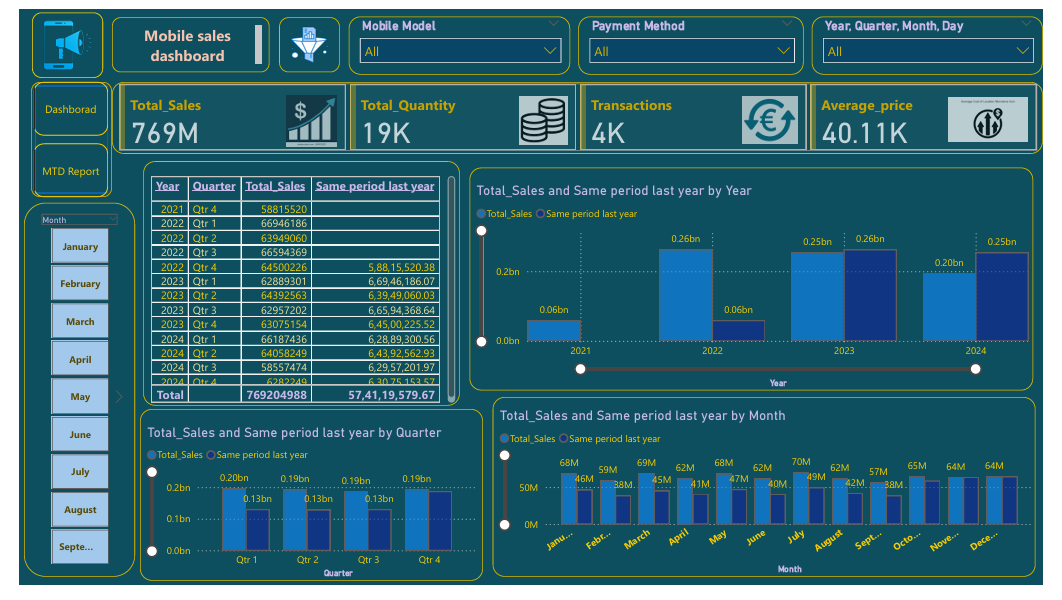

What the dashboard file says about the page in this screenshot:
{"tool":"powerbi","page":{"name":"Same period last year","canvas":[1280,720],"ordinal":2},"visuals":[{"type":"shape","box":[15.1,90.7,100.8,144.5],"z":1000},{"type":"cardVisual","fields":{"Data":["Sales_Data.Total_Sales","Sales_Data.Total_Quantity","Sales_Data.Transactions","Sales_Data.Average_price"]},"box":[116.2,90.7,1163.6,90.7],"z":2000},{"type":"slicer","fields":{"Values":["Sales_Data.Mobile Model"]},"box":[412.4,8.5,276.4,73.7],"z":3000},{"type":"slicer","fields":{"Values":["Sales_Data.Payment Method"]},"box":[698.7,8.5,282,73.7],"z":4000},{"type":"slicer","fields":{"Values":["Query1.Date.Variation.Date Hierarchy.Year","Query1.Date.Variation.Date Hierarchy.Quarter","Query1.Date.Variation.Date Hierarchy.Month","Query1.Date.Variation.Date Hierarchy.Day"]},"box":[990.7,8.5,289.1,73.7],"z":5000},{"type":"image","box":[324.6,9.9,76.5,69.4],"z":6000},{"type":"textbox","box":[116.2,9.9,197,69.4],"z":7000},{"type":"slicer","fields":{"Values":["Query1.Date.Variation.Date Hierarchy.Month"]},"box":[5.7,242.4,138.9,467.7],"z":9000},{"type":"tableEx","fields":{"Values":["Query1.Date.Variation.Date Hierarchy.Year","Query1.Date.Variation.Date Hierarchy.Quarter","Sales_Data.Total_Sales","Sales_Data.Same period last year"]},"box":[154.5,189.8,396.4,305.7],"z":9001},{"type":"clusteredColumnChart","fields":{"Category":["Query1.Date.Variation.Date Hierarchy.Year","Query1.Date.Variation.Date Hierarchy.Quarter"],"Y":["Sales_Data.Total_Sales","Sales_Data.Same period last year"]},"box":[562.7,198.2,705.5,278.8],"z":9002},{"type":"clusteredColumnChart","fields":{"Y":["Sales_Data.Total_Sales","Sales_Data.Same period last year"],"Category":["Query1.Date.Variation.Date Hierarchy.Month"]},"box":[592.4,484.7,678.9,225.4],"z":9003},{"type":"clusteredColumnChart","fields":{"Category":["Query1.Date.Variation.Date Hierarchy.Quarter"],"Y":["Sales_Data.Total_Sales","Sales_Data.Same period last year"]},"box":[151,500,429.4,215.4],"z":9004},{"type":"pageNavigator","box":[18.4,90.7,92.1,144.6],"z":9005},{"type":"image","box":[15.6,4.3,89.3,82.2],"z":9006}]}

Visuals, with their boxes in screenshot pixels (x1, y1, x2, y2), scaled from the page's 1280x720 canvas onto the 1062x600 screenshot:
shape: rect(13, 76, 96, 196)
cardVisual - Sales_Data.Total_Sales x Sales_Data.Total_Quantity: rect(96, 76, 1061, 151)
slicer - Sales_Data.Mobile Model: rect(342, 7, 571, 68)
slicer - Sales_Data.Payment Method: rect(580, 7, 814, 68)
slicer - Query1.Date.Variation.Date Hierarchy.Year x Query1.Date.Variation.Date Hierarchy.Quarter: rect(822, 7, 1061, 68)
image: rect(269, 8, 333, 66)
textbox: rect(96, 8, 260, 66)
slicer - Query1.Date.Variation.Date Hierarchy.Month: rect(5, 202, 120, 592)
tableEx - Query1.Date.Variation.Date Hierarchy.Year x Query1.Date.Variation.Date Hierarchy.Quarter: rect(128, 158, 457, 413)
clusteredColumnChart - Query1.Date.Variation.Date Hierarchy.Year x Query1.Date.Variation.Date Hierarchy.Quarter: rect(467, 165, 1052, 398)
clusteredColumnChart - Sales_Data.Total_Sales x Sales_Data.Same period last year: rect(492, 404, 1055, 592)
clusteredColumnChart - Query1.Date.Variation.Date Hierarchy.Quarter x Sales_Data.Total_Sales: rect(125, 417, 482, 596)
pageNavigator: rect(15, 76, 92, 196)
image: rect(13, 4, 87, 72)
